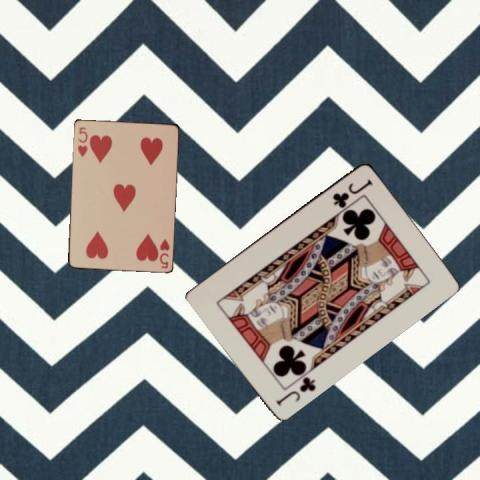5h: (74, 124, 88, 159), (156, 236, 170, 269)
Jc: (274, 372, 317, 406), (330, 175, 374, 208)
